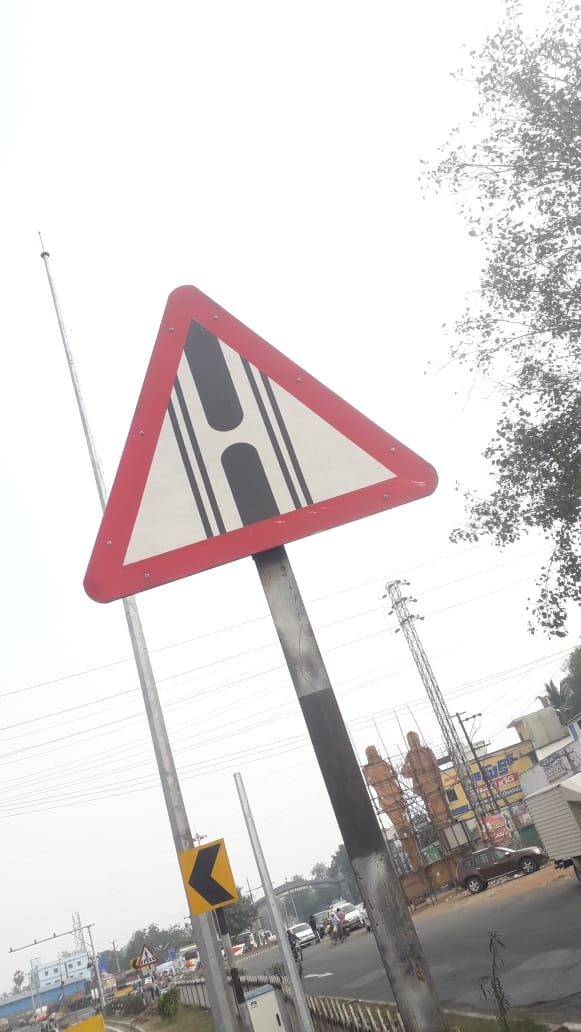highway go straight: (69, 277, 444, 584)
